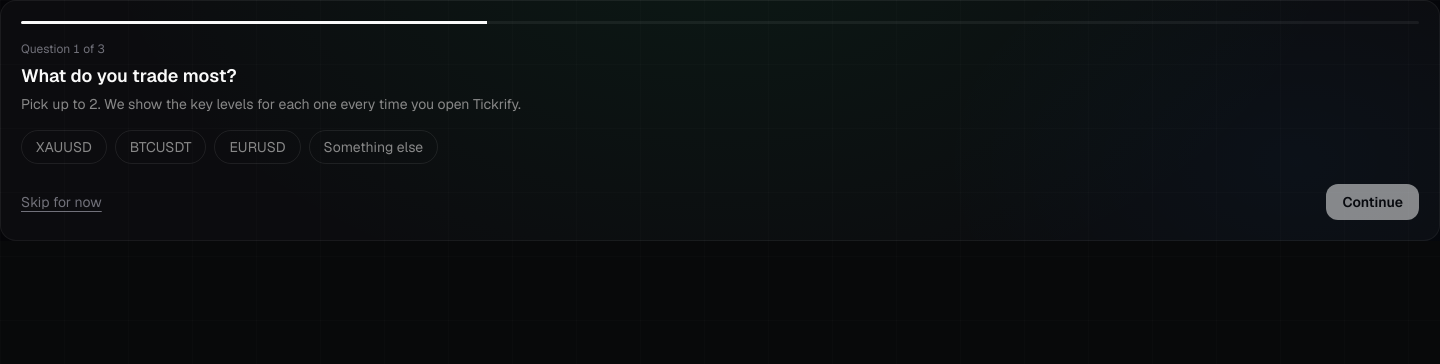
Test: quiz de conta nova › so "Something else": termina sem gravar lista e sem prometer alerta
Click the button "Something else": (373, 147) [309,130,438,164]
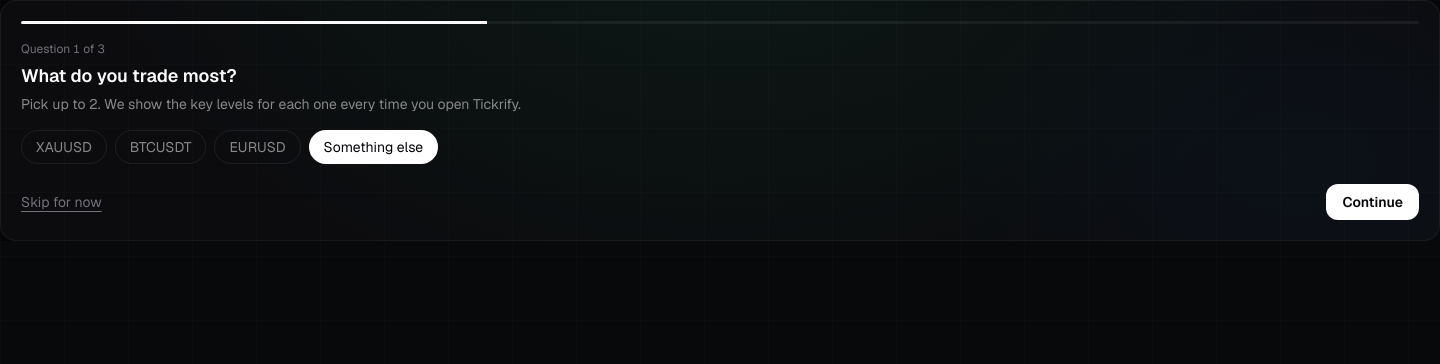
Click the button "Continue": (1373, 202) [1326,184,1419,220]
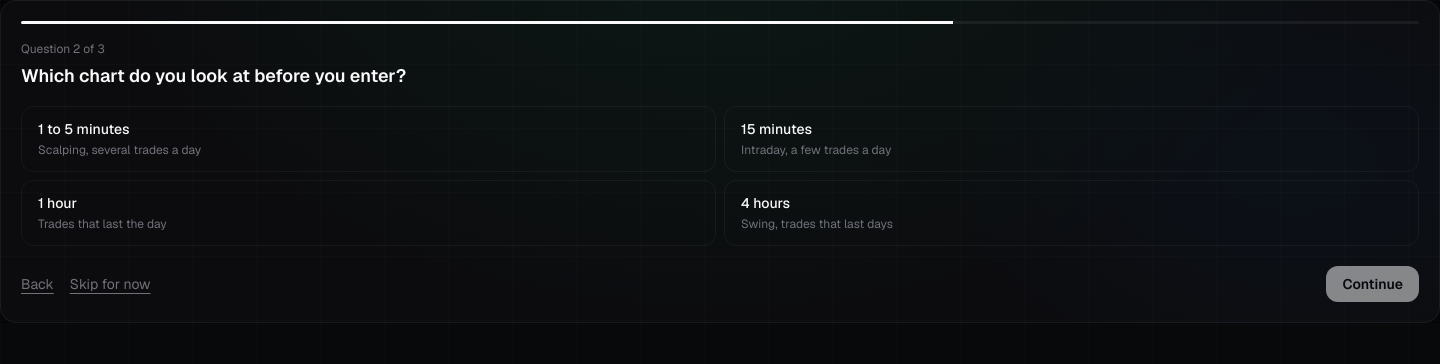
Click the radio button labelled "4 hours Swing, trades that last days": (766, 203) [724,180,1419,246]
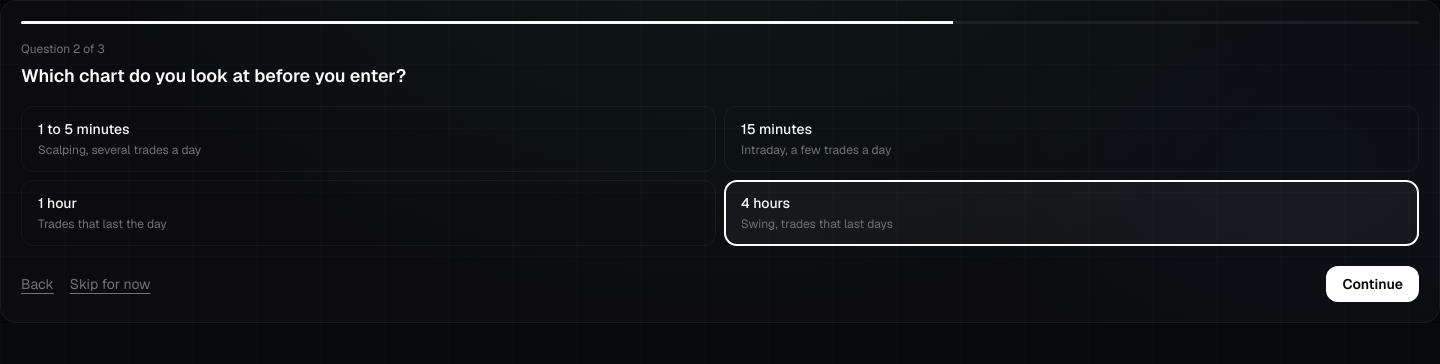
Click the button "Continue": (1373, 284) [1326,266,1419,302]
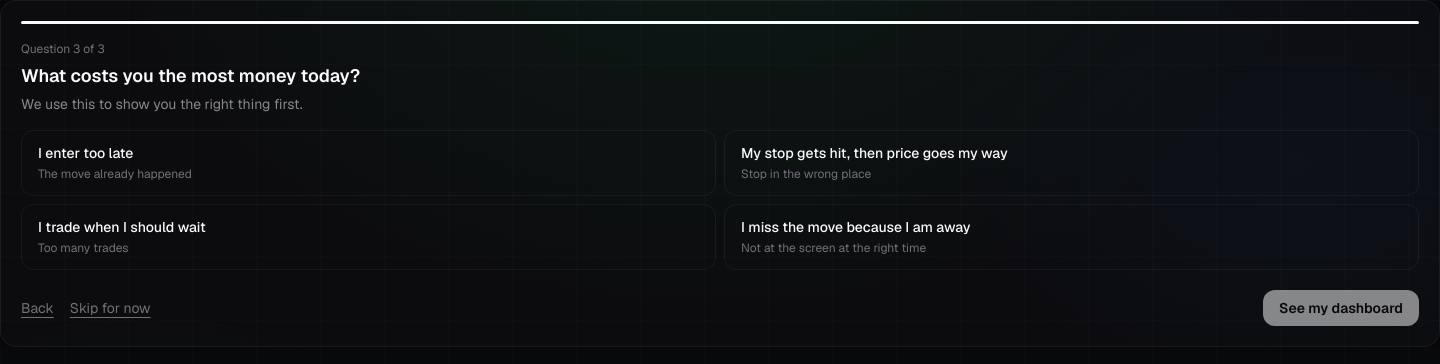
Click the radio button labelled "I miss the move": (856, 227) [724,204,1419,270]
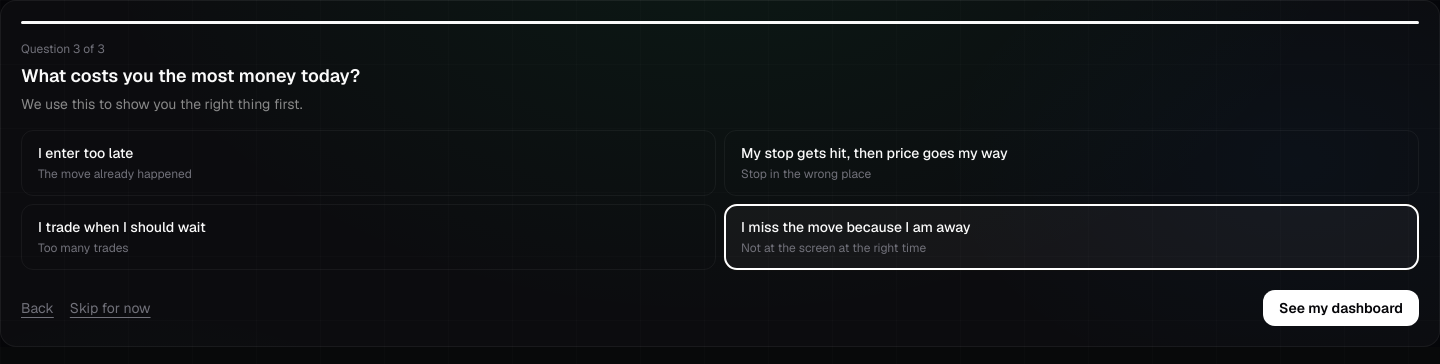
Click the button "See my dashboard": (1341, 308) [1263,290,1419,326]
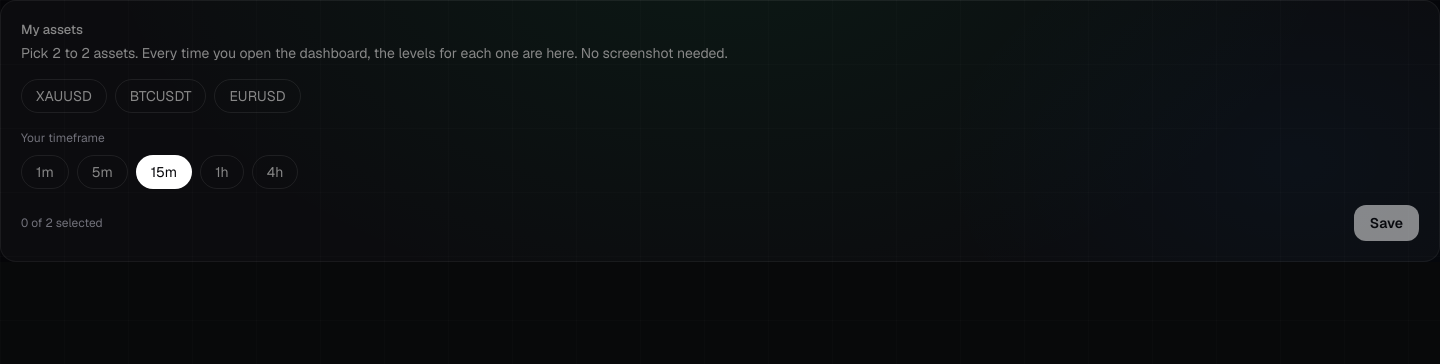
Result: the heading "My assets" is shown at [21,21,83,38]
